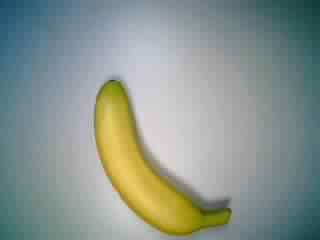banana: (93, 75, 236, 237)
